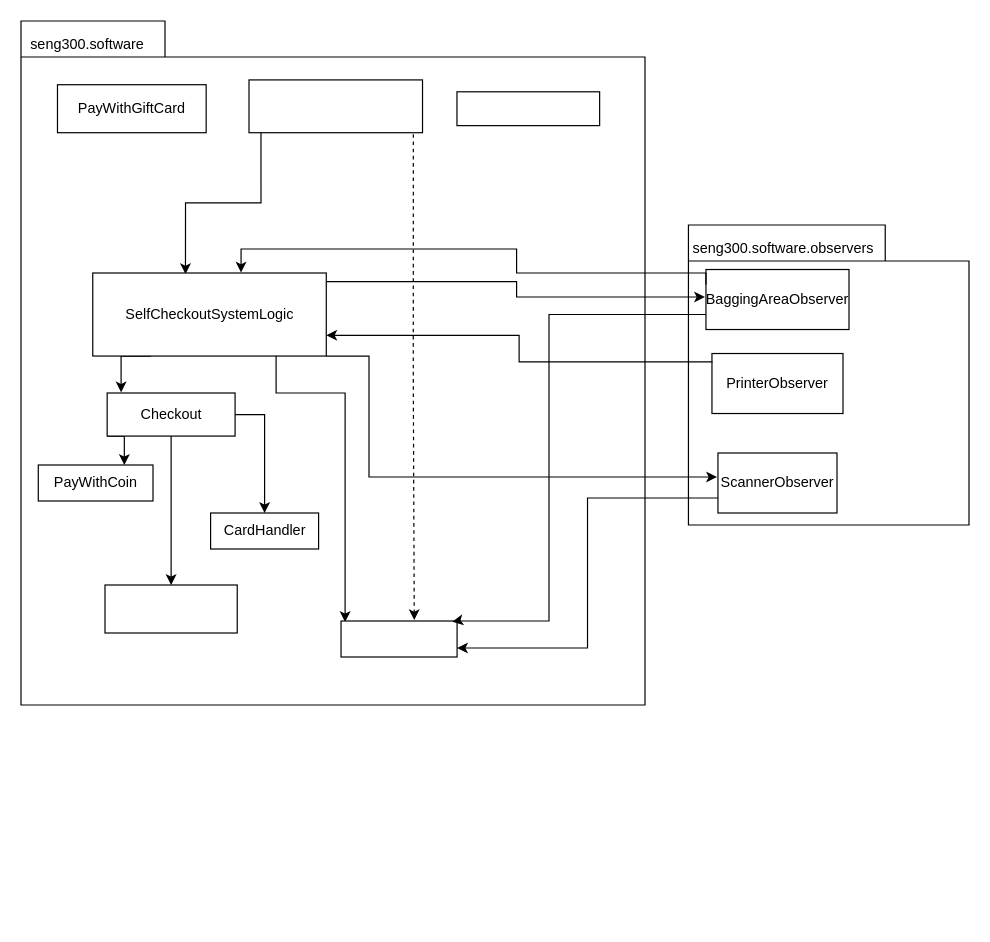
Image size: 990x942. Some labels were removed from this diagram. The centre of each missing label's shape, as x and y in pixels:
"AttendantLogic" belongs at point (335, 106).
"Cart" belongs at point (398, 638).
"MembershipCard" belongs at point (528, 108).
"PayWithBanknote" belongs at point (170, 608).
